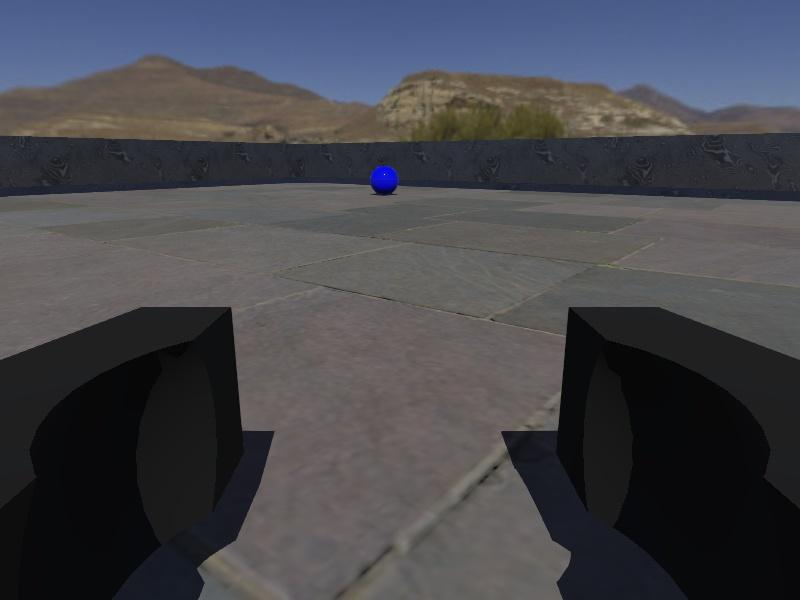blue ball: (370, 164, 399, 197)
